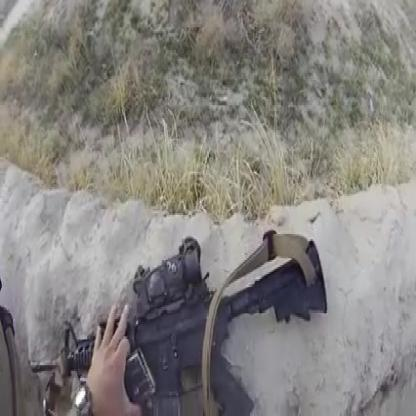Gun: (44, 215, 329, 409)
